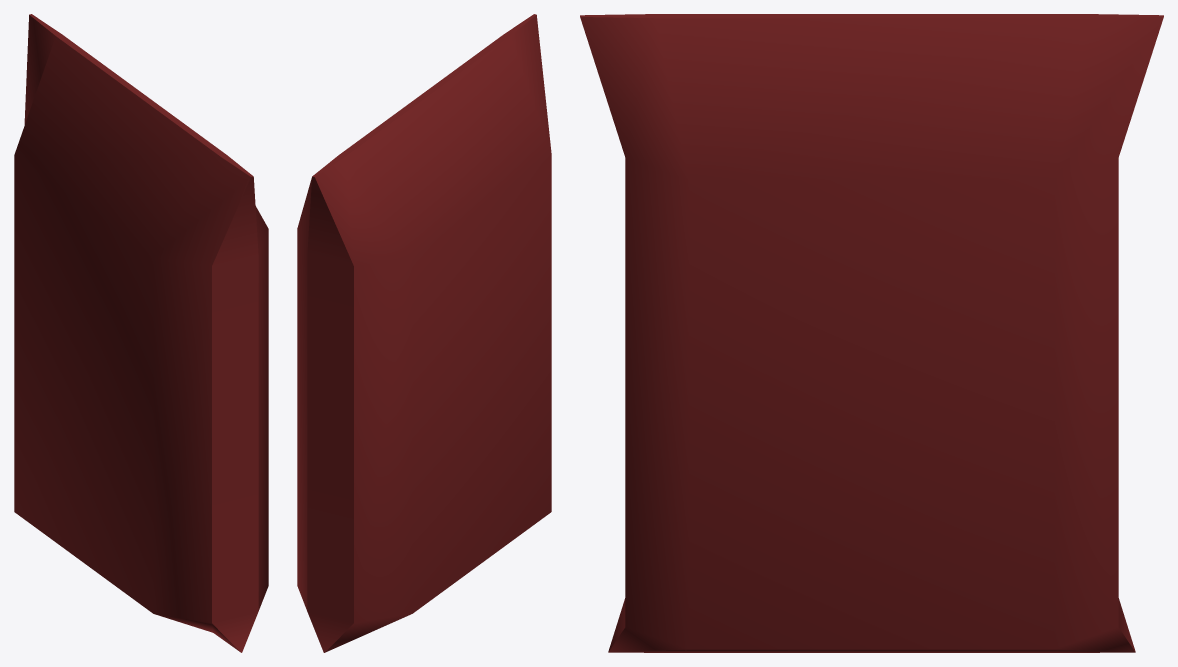
Rendered from sunChips.fbx.
3 renders of one model, left to right at view 1: azimuth 30°, elevation 25°; view 2: azimuth 150°, elevation 25°; view 3: azimuth 270°, elevation 25°, orthographic. The views are drawn at different scales.
Visible parts, largest first — view 1: sunChips; view 2: sunChips; view 3: sunChips.
Boxes of the visible parts, bbox=[...] form: sunChips: bbox=[14, 14, 268, 652]; sunChips: bbox=[297, 14, 551, 652]; sunChips: bbox=[580, 14, 1163, 652].
Size of the model in its own units: 0.083 by 0.3323 by 0.2763.
